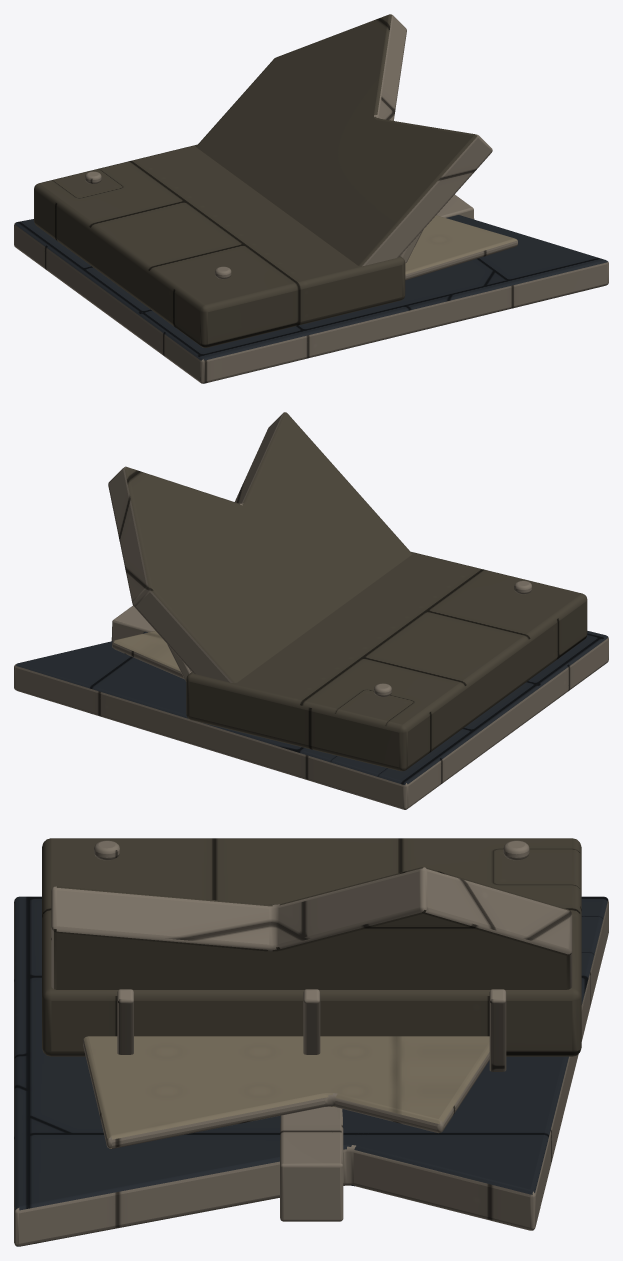
File: cargo-peeled-armor-corner_lod0.glb
3 views of the same model, one above another, from view 1: azimuth 30°, elevation 25°; view 2: azimuth 150°, elevation 25°; view 3: azimuth 270°, elevation 25° (orthographic). The views are drawn at different scales.
Parts seen in each view (by area): view 1: LOD0_Hull, LOD0_BrushedMetal, LOD0_Armor, LOD0_Ceramic; view 2: LOD0_Hull, LOD0_BrushedMetal, LOD0_Armor, LOD0_Ceramic; view 3: LOD0_Hull, LOD0_BrushedMetal, LOD0_Armor, LOD0_Ceramic.
Boxes of the visible parts, <box> form: LOD0_Hull: <box>34,14,477,347</box>; LOD0_BrushedMetal: <box>14,14,608,383</box>; LOD0_Armor: <box>15,215,607,383</box>; LOD0_Ceramic: <box>405,215,517,274</box>; LOD0_Hull: <box>124,412,587,771</box>; LOD0_BrushedMetal: <box>14,412,608,809</box>; LOD0_Armor: <box>16,631,608,809</box>; LOD0_Ceramic: <box>114,630,180,671</box>; LOD0_Hull: <box>42,838,581,1056</box>; LOD0_BrushedMetal: <box>14,840,608,1246</box>; LOD0_Armor: <box>14,896,608,1246</box>; LOD0_Ceramic: <box>83,1036,489,1148</box>.
Bounding box in the file's own units: 2 × 1.01 × 1.6.
4 materials, 4 textured.
